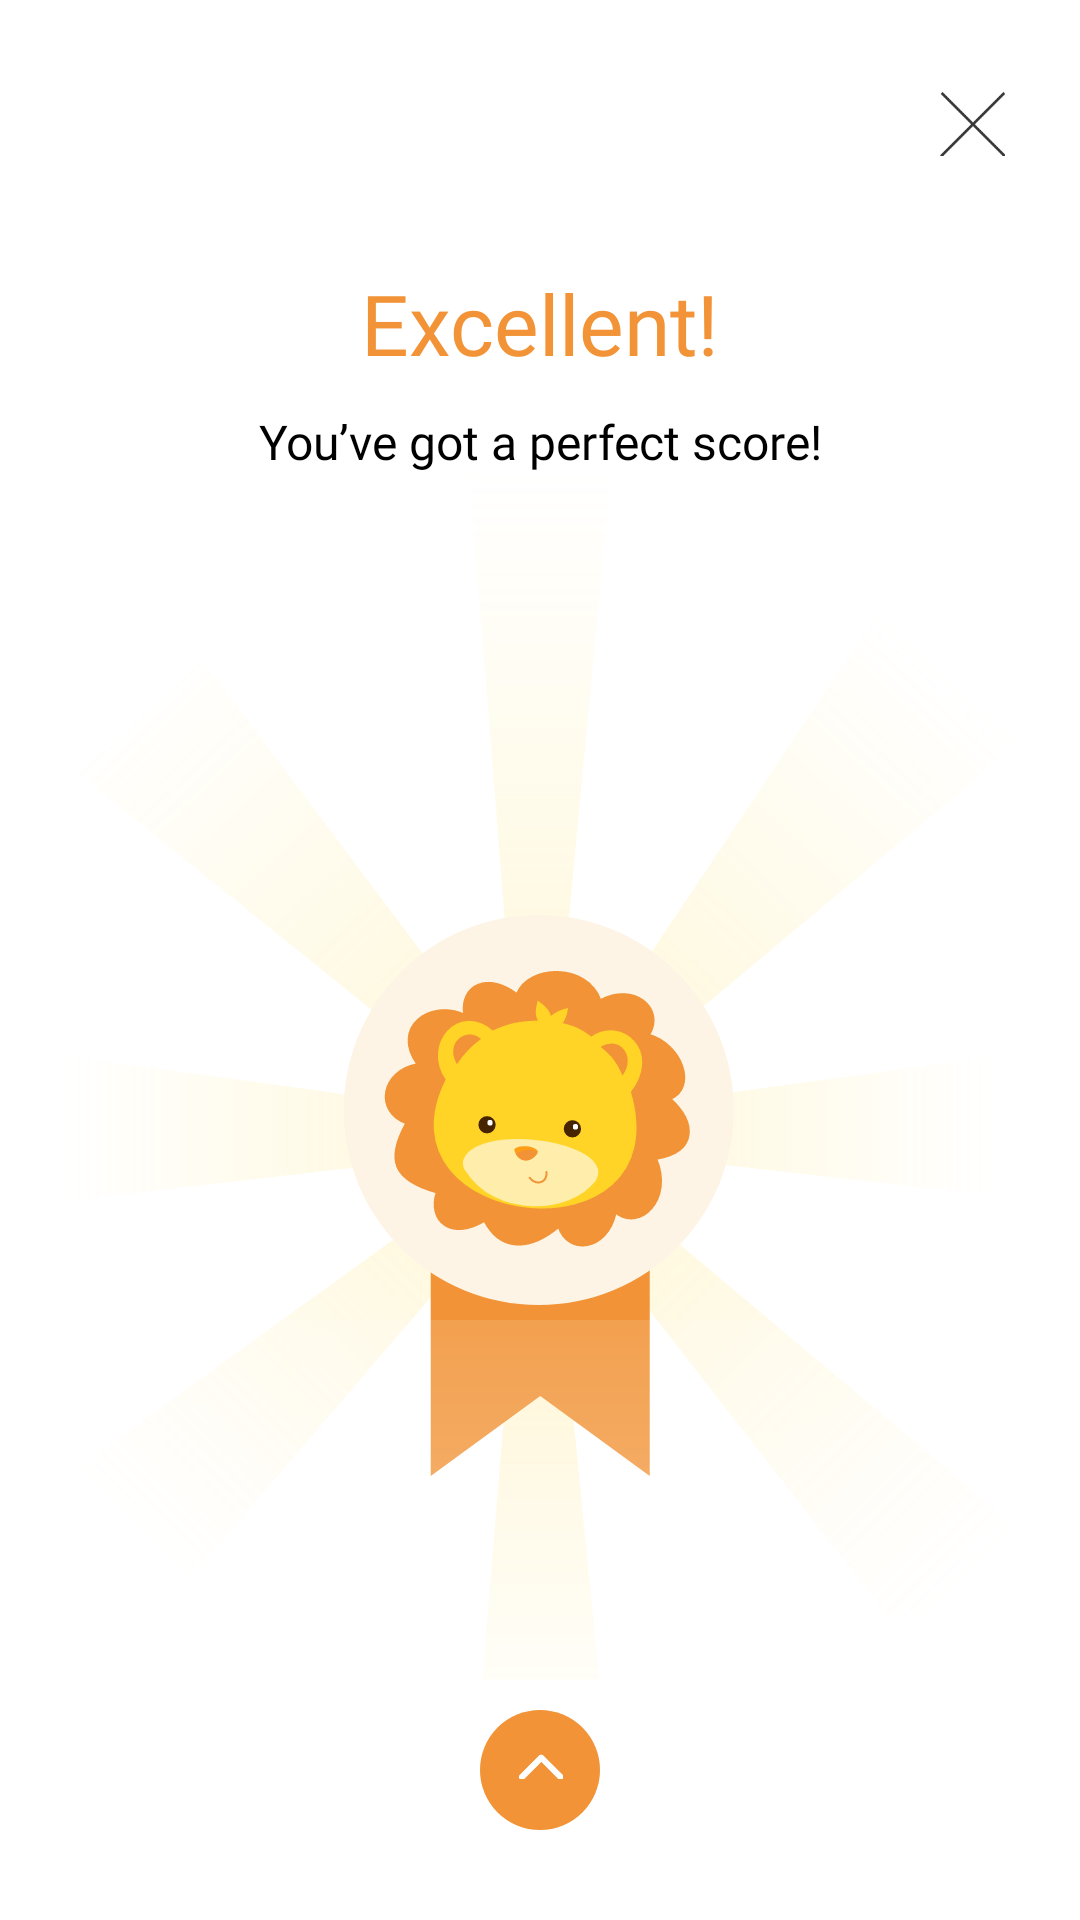

Where icons sit on this 1080×1920 app screen, as detection(x1, y1, x2, y2):
arrow top: detection(519, 1754, 563, 1779)
close: detection(940, 92, 1005, 156)
